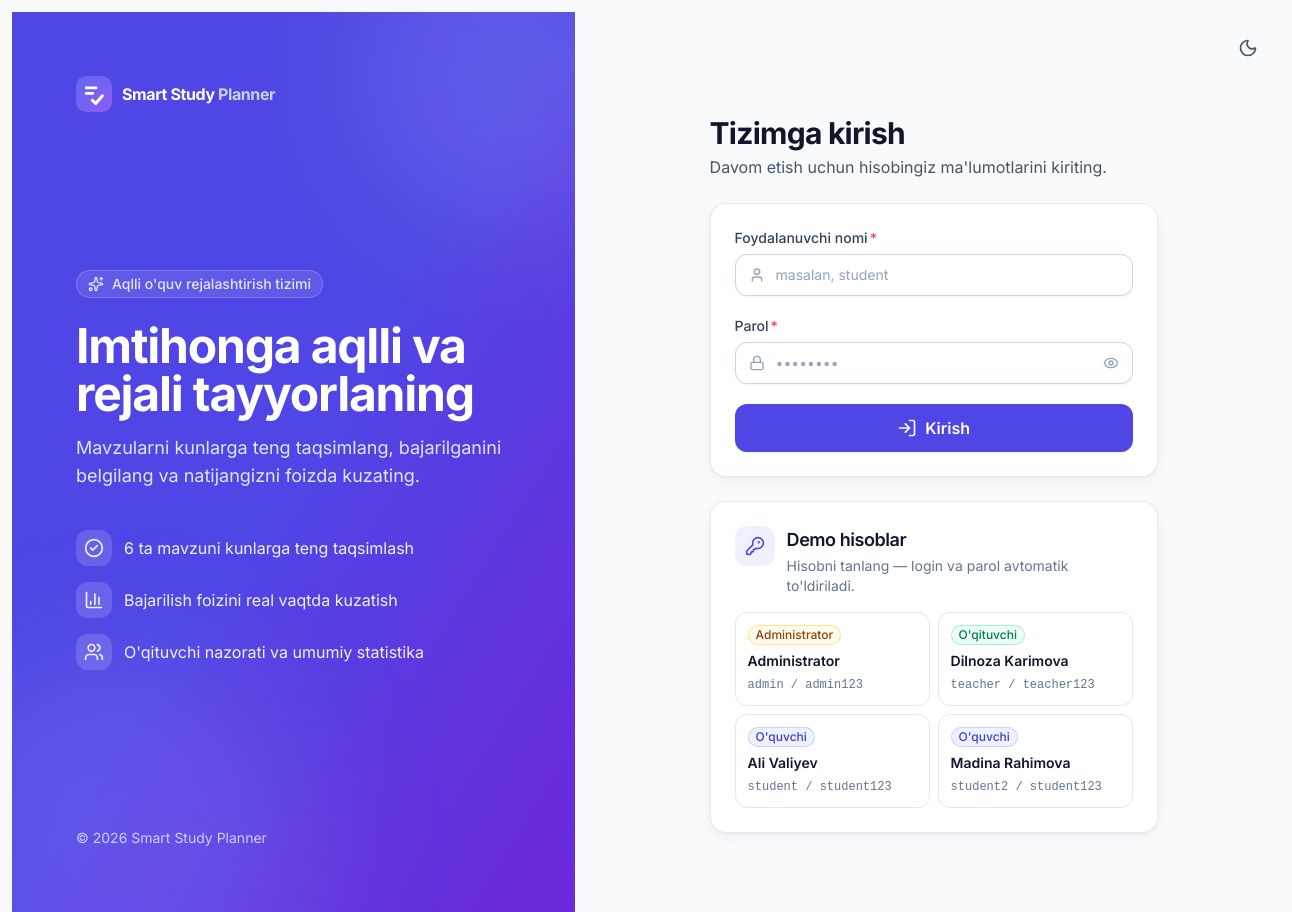
Scenario: LoginPage › logs in as admin, stores the token and redirects to /admin
Type "admin" into the field labelled "Foydalanuvchi nomi*".
click(934, 275); type("admin")  # box left=735, top=254, right=1133, bottom=296
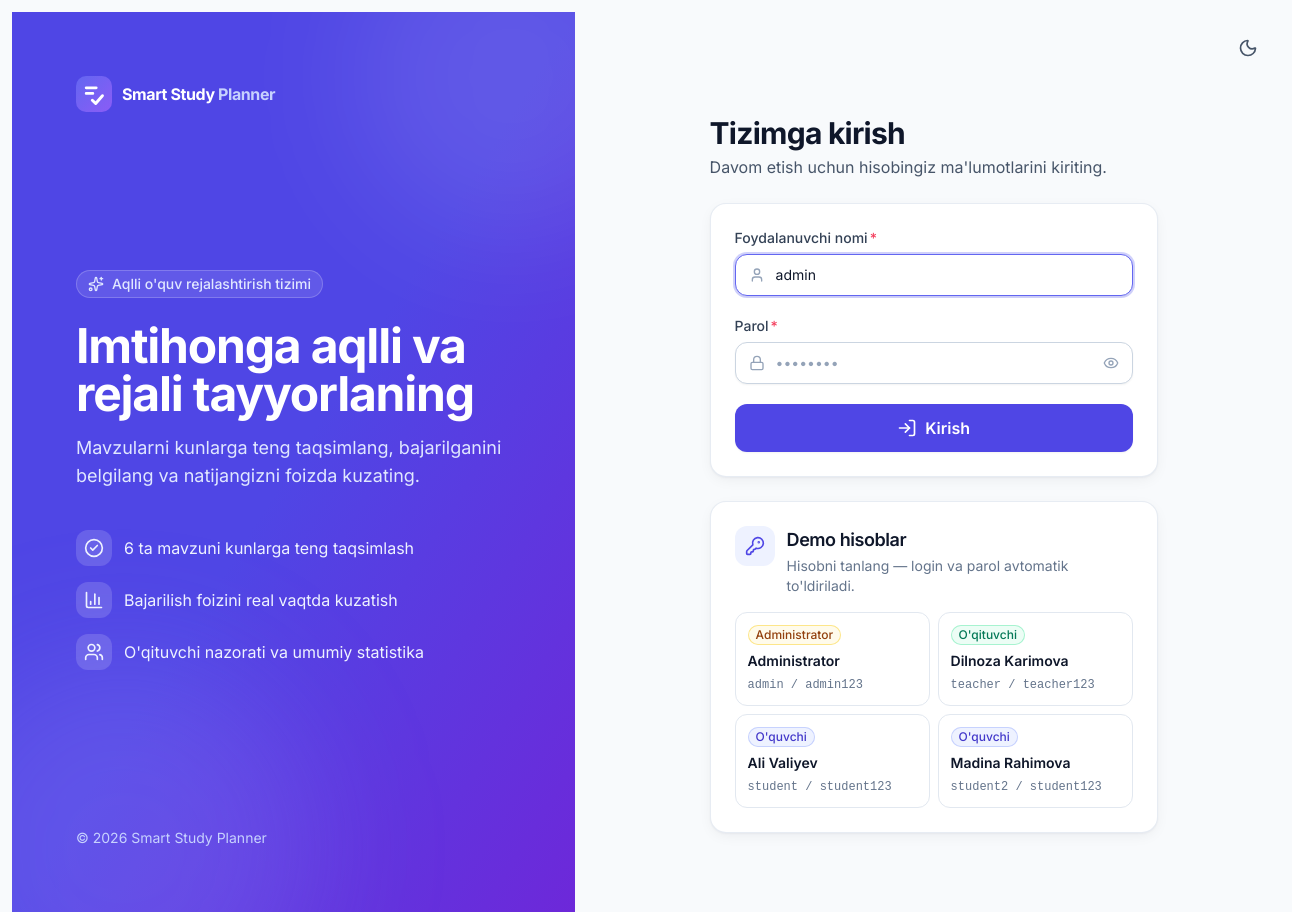
Type "secret123" into the password field labelled "Parol*".
click(934, 363); type("secret123")  # box left=735, top=342, right=1133, bottom=384
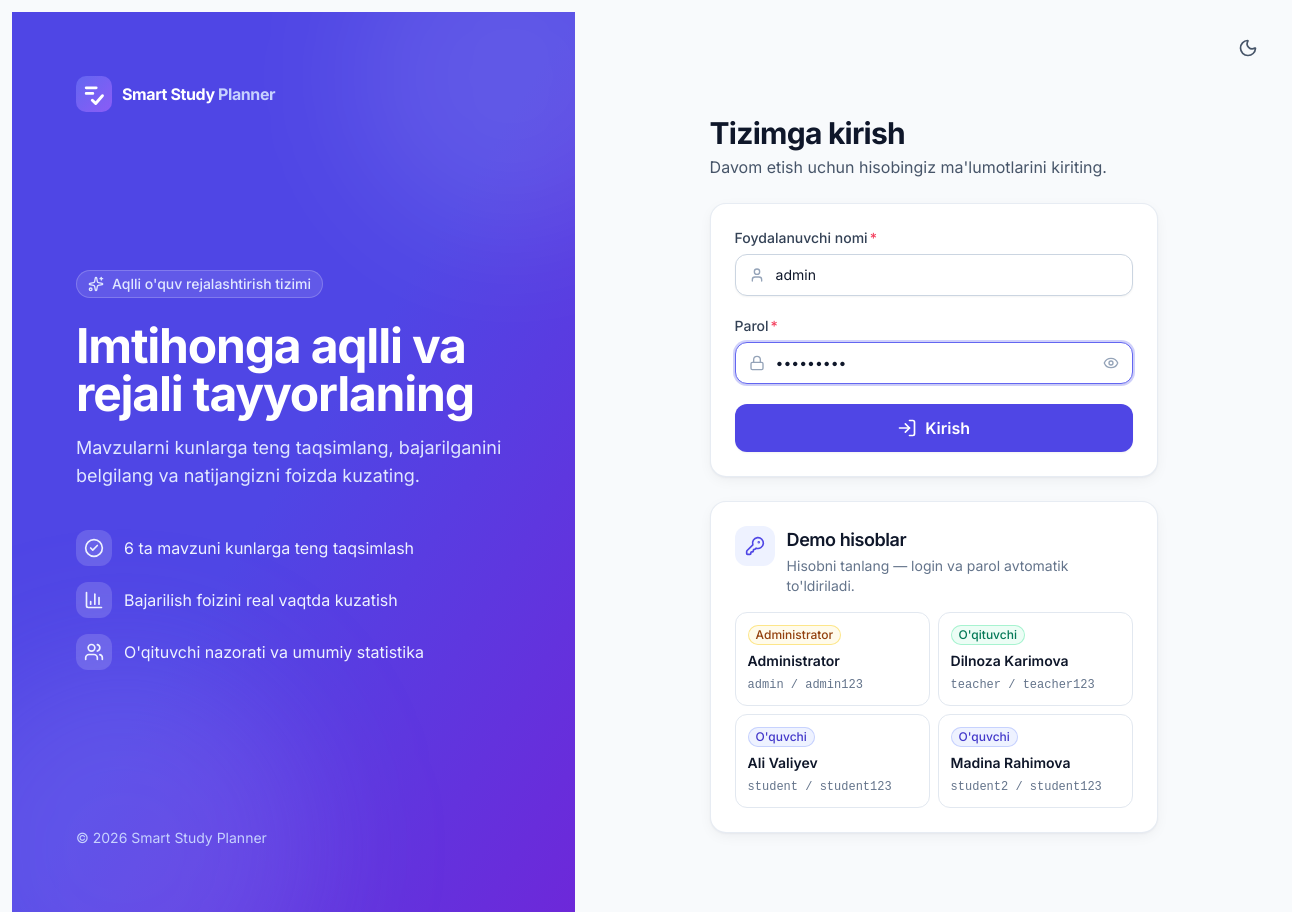
Click the button "Kirish".
click(934, 428)  # box left=735, top=404, right=1133, bottom=452
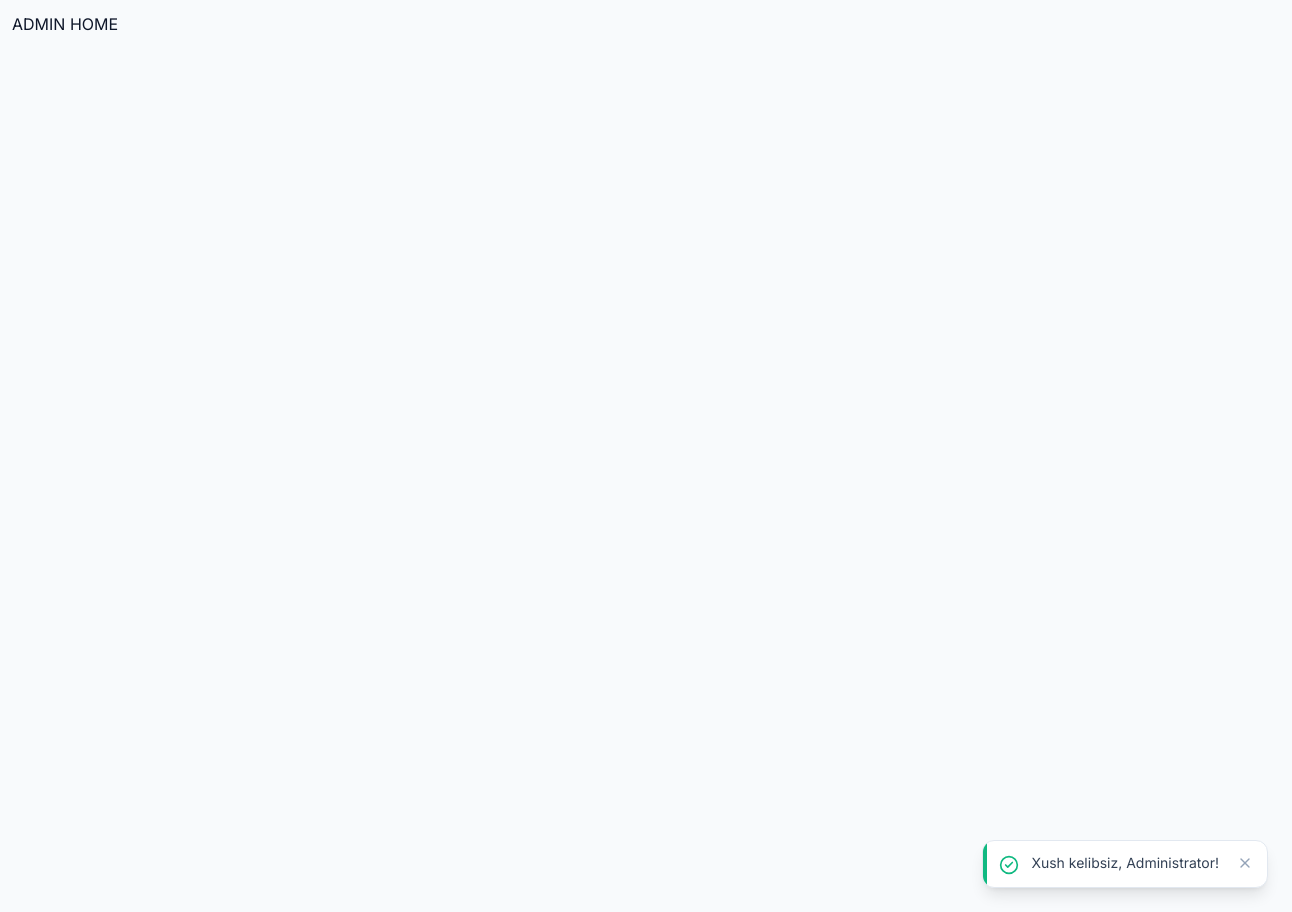
Now the text "ADMIN HOME" is shown, box left=12, top=14, right=118, bottom=34
